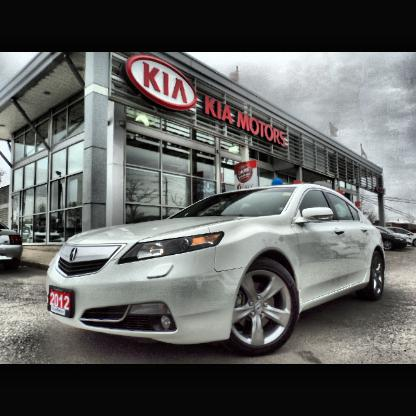Acura TL Sedan 2012: (48, 178, 387, 355)
